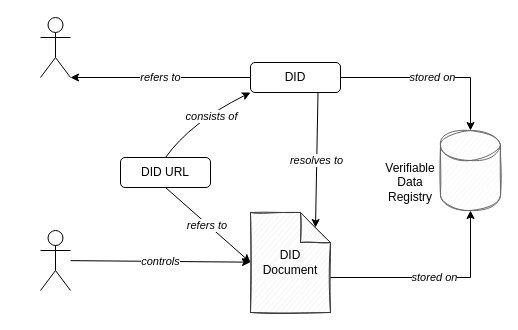
The diagram is 518 pixels wide and 330 high, and some of its shapes have lost their labels. The shapes that lost their labels are listed below. From the top down, each one's centre as x and y in pixels, then its label:
At (55,47): "DID Subject".
At (55,260): "DID Controller".
